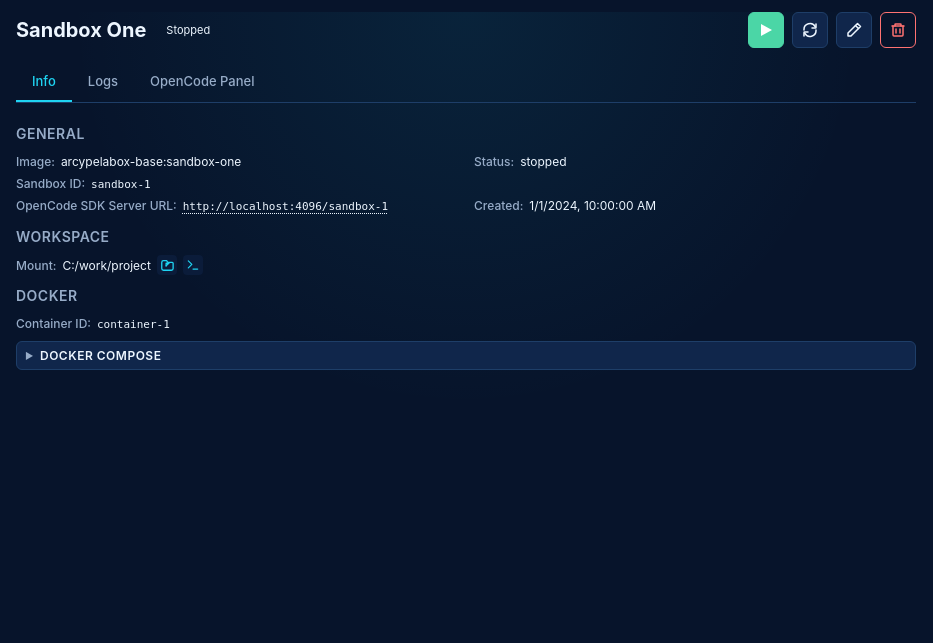
Test: SandboxDetail › shows backend errors for lifecycle actions
The width and height of the screenshot is (933, 643).
Click the button titled "Start" at (766, 30), box [748,12,784,48]
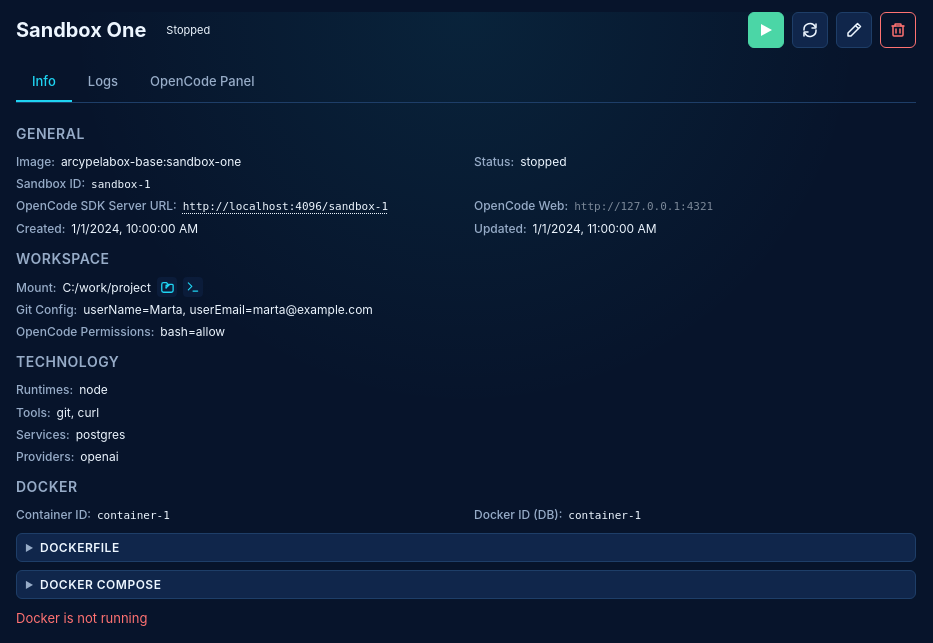
Check: the text "Docker is not running" is shown, box [16,610,147,626]
